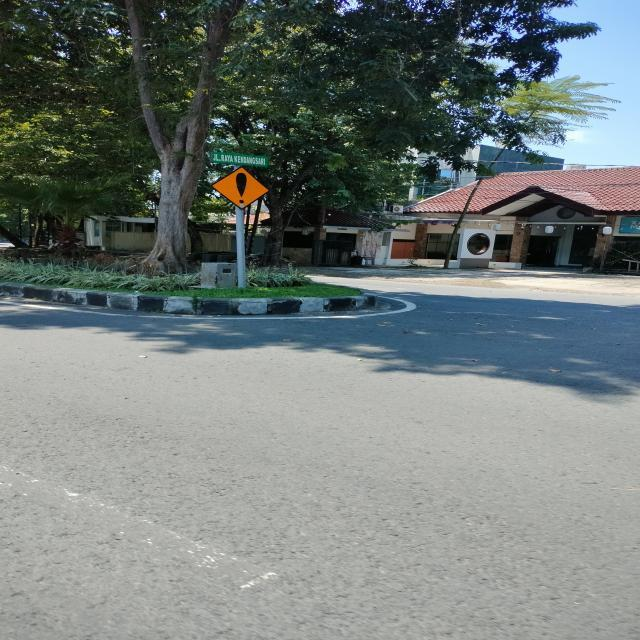Hati-Hati: (210, 167, 270, 210)
